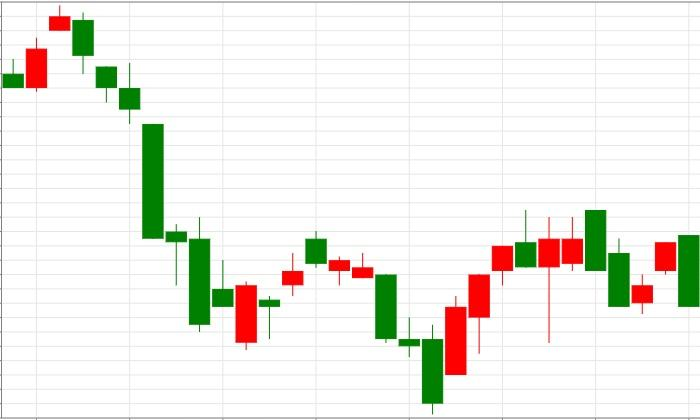bearish_engulfing_fall: (422, 210, 608, 415)
three_black_crows_fall: (3, 4, 141, 124)
